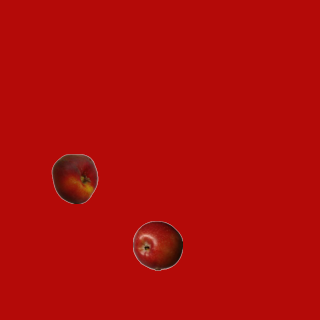Apple Braeburn: (132, 220, 182, 270)
Nectarine Flat: (49, 153, 99, 203)
